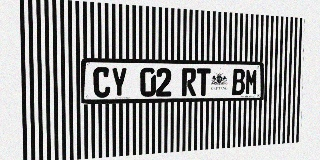0: (140, 67, 156, 97)
2: (156, 68, 171, 97)
B: (232, 69, 245, 95)
C: (93, 67, 110, 98)
M: (245, 69, 258, 95)
R: (182, 68, 196, 96)
T: (196, 68, 211, 96)
Y: (111, 67, 127, 97)
